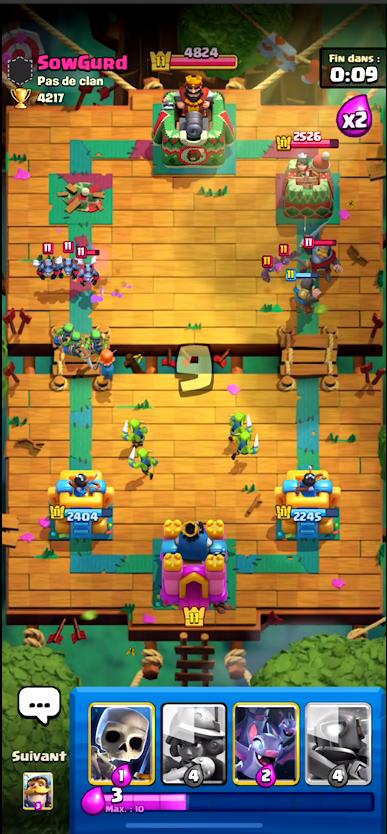bat: (275, 245, 299, 269), (263, 257, 280, 282)
chevalier: (285, 271, 324, 315), (304, 235, 342, 275)
gargouille: (76, 245, 100, 285), (35, 242, 57, 284), (55, 242, 77, 277)
gobelin: (121, 417, 151, 444), (129, 446, 156, 476), (228, 411, 252, 435), (235, 433, 259, 457)
gobelin_lances: (67, 331, 85, 357), (87, 330, 106, 351), (54, 322, 74, 339)
valkyrie: (94, 346, 115, 380)
